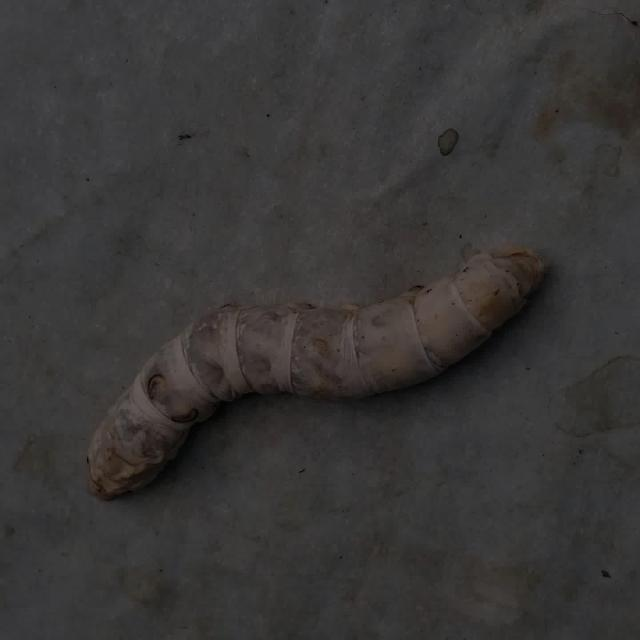Grasserie: (54, 206, 576, 521)
